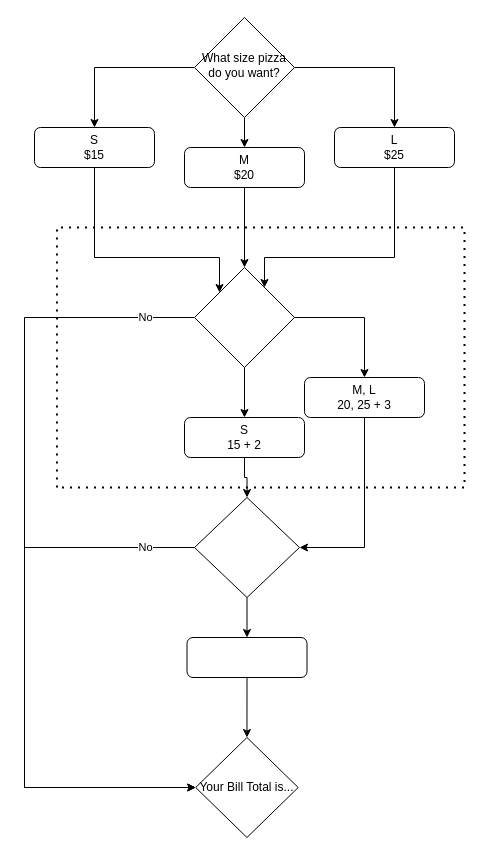
This 484x855 diagram has some shape labels left out. Each missing label, with the box of its shape:
Add pepperoni?: (194, 266, 294, 368)
Extra Cheese?: (194, 496, 300, 598)
S, M, L += 1: (186, 636, 307, 678)
